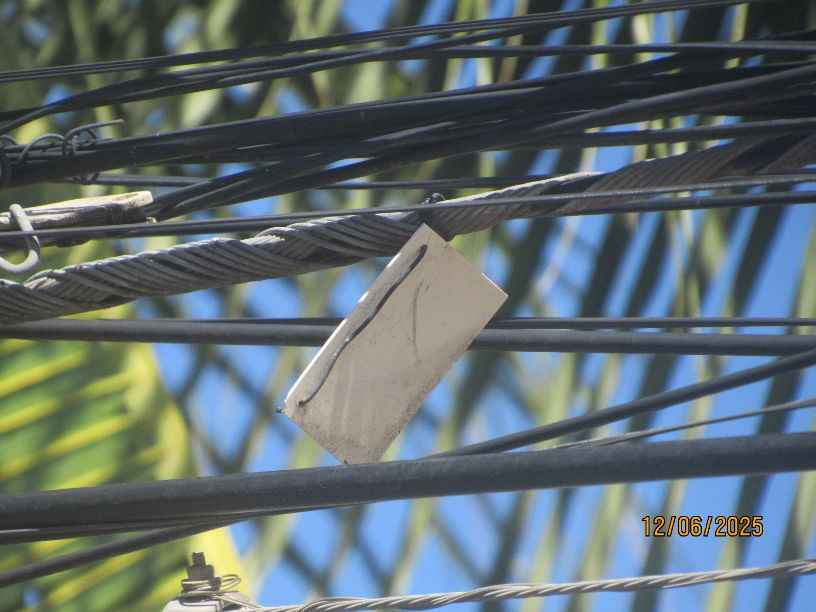fibra_optica: (271, 215, 509, 473)
